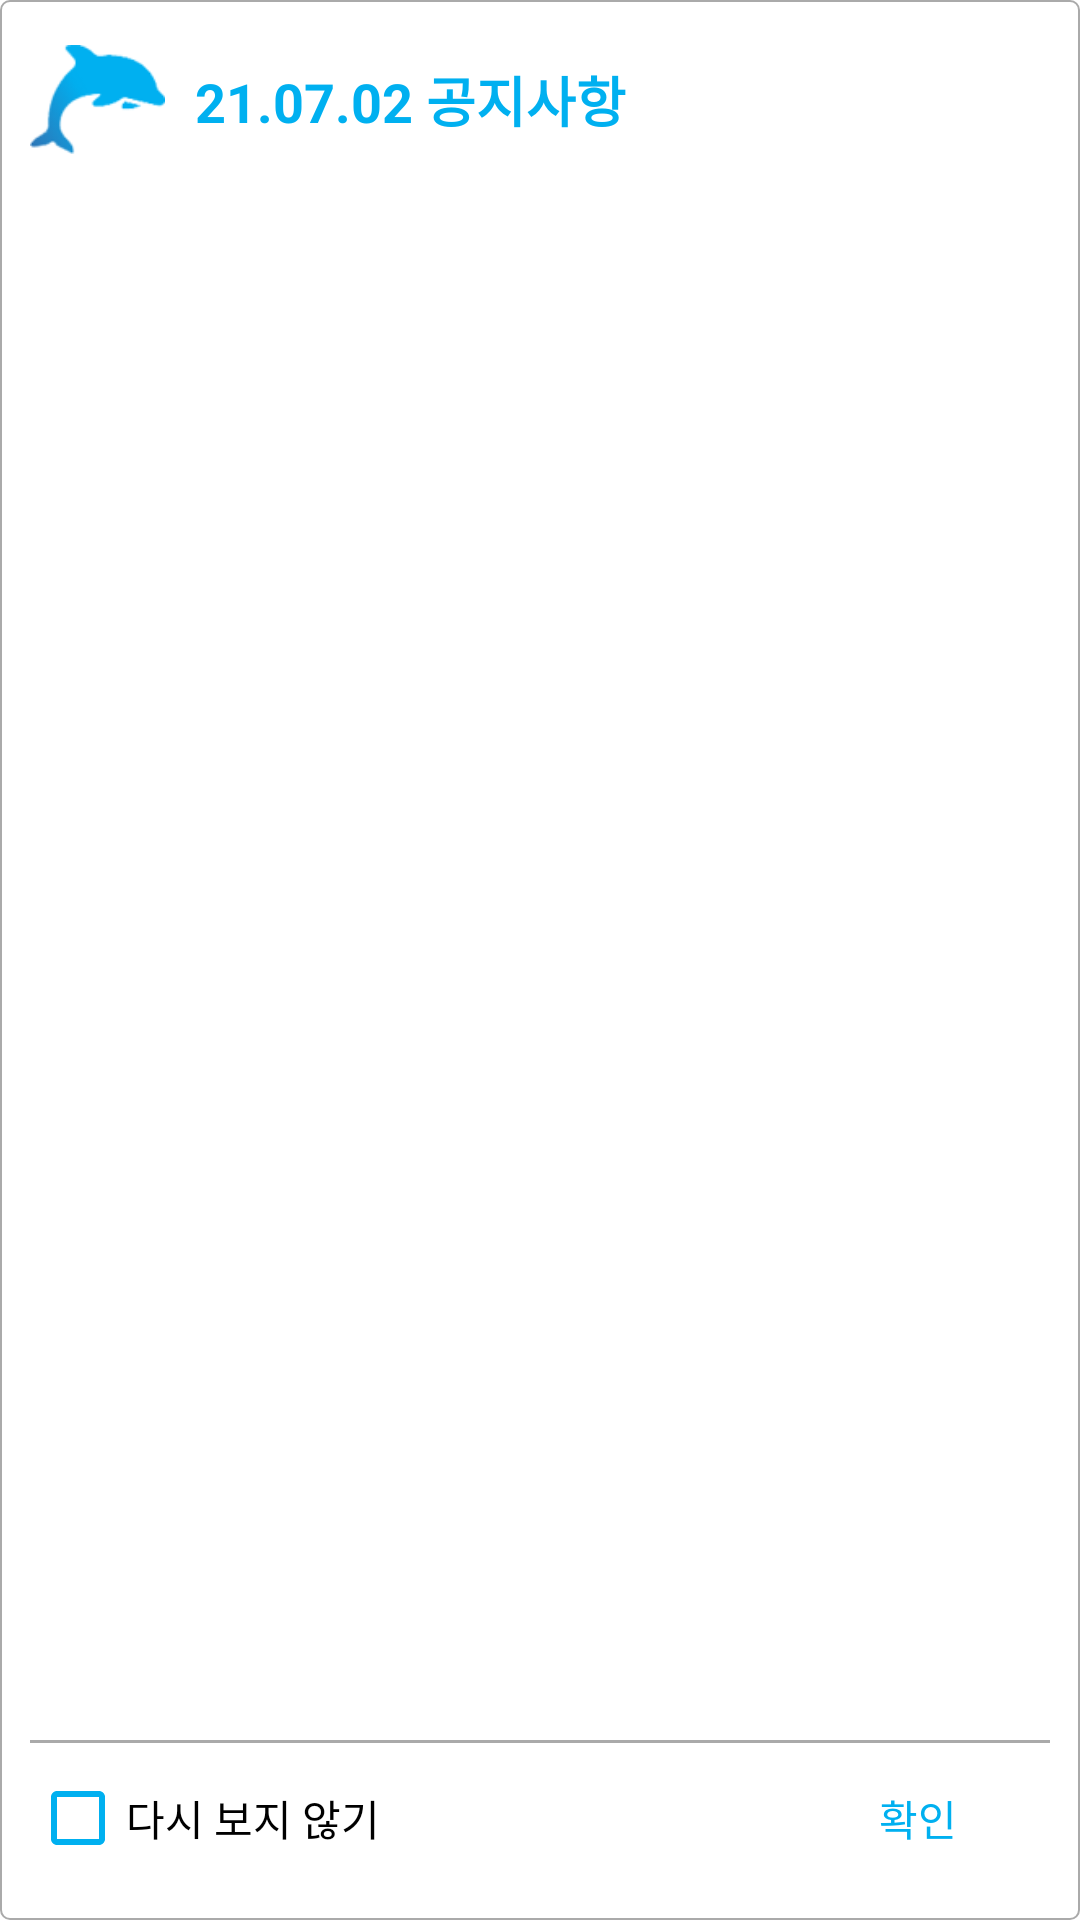

Icon bounding boxes for this 1080px x 1920px phone screenshot, format (x1, y1, x2, y2):
dolphins: (30, 45, 165, 154)
